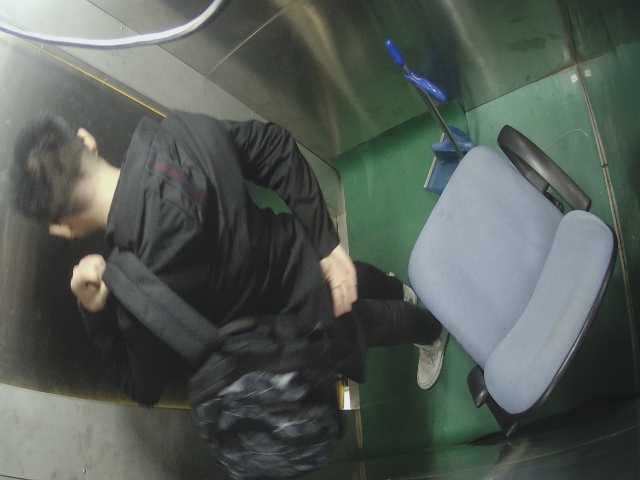bag: (156, 323, 368, 470)
broom: (371, 37, 478, 193)
chair: (404, 124, 619, 430)
person: (14, 104, 439, 365)
